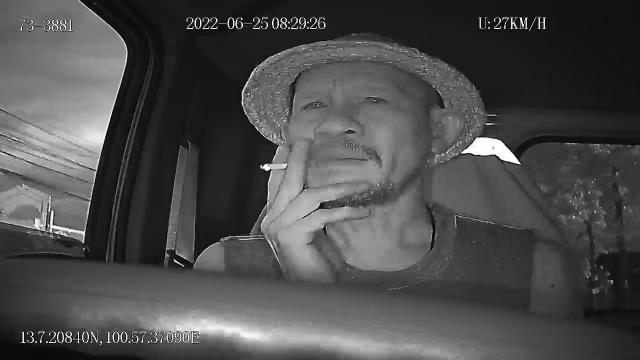SafeDriving: (356, 86, 396, 112), (296, 92, 334, 116)
Smoking: (259, 160, 289, 172)
